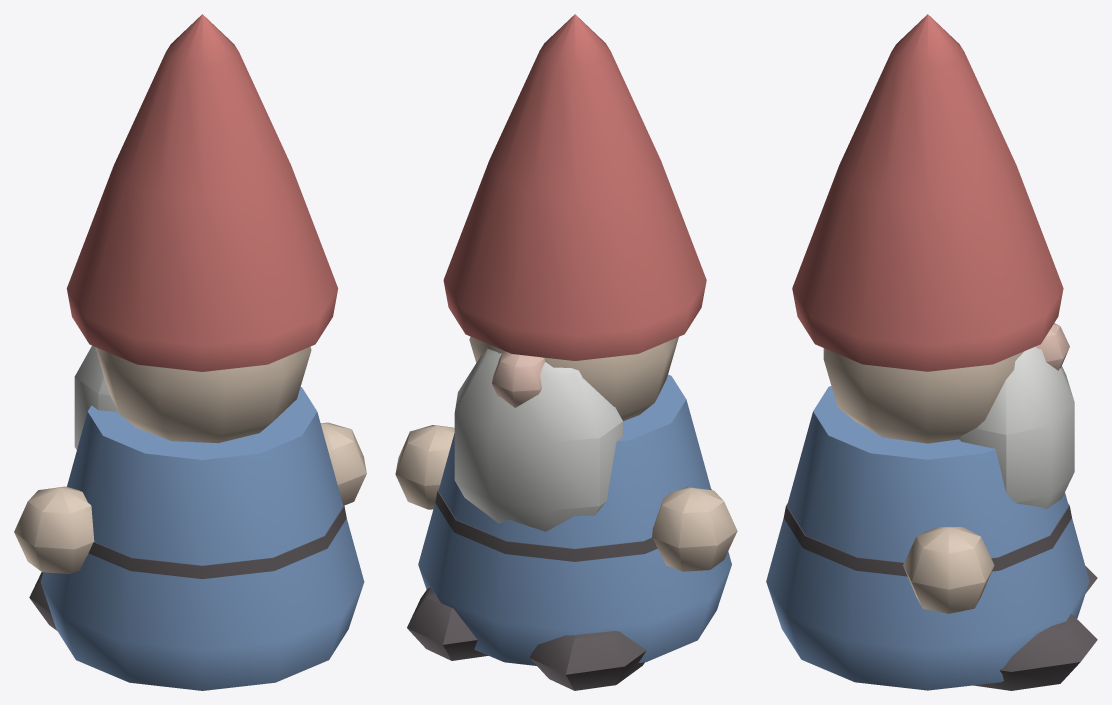
The model's file is gnome.gltf.
3 renders of one model, left to right at view 1: azimuth 30°, elevation 25°; view 2: azimuth 150°, elevation 25°; view 3: azimuth 270°, elevation 25°, orthographic. The views are drawn at different scales.
Visible parts, largest first — view 1: gnome; view 2: gnome; view 3: gnome.
Boxes of the visible parts, x1,y1,x2,y2 form: gnome: (14, 14, 366, 690); gnome: (395, 14, 737, 690); gnome: (766, 14, 1097, 690).
Size of the model in its own units: 0.3755 by 0.675 by 0.3179.
